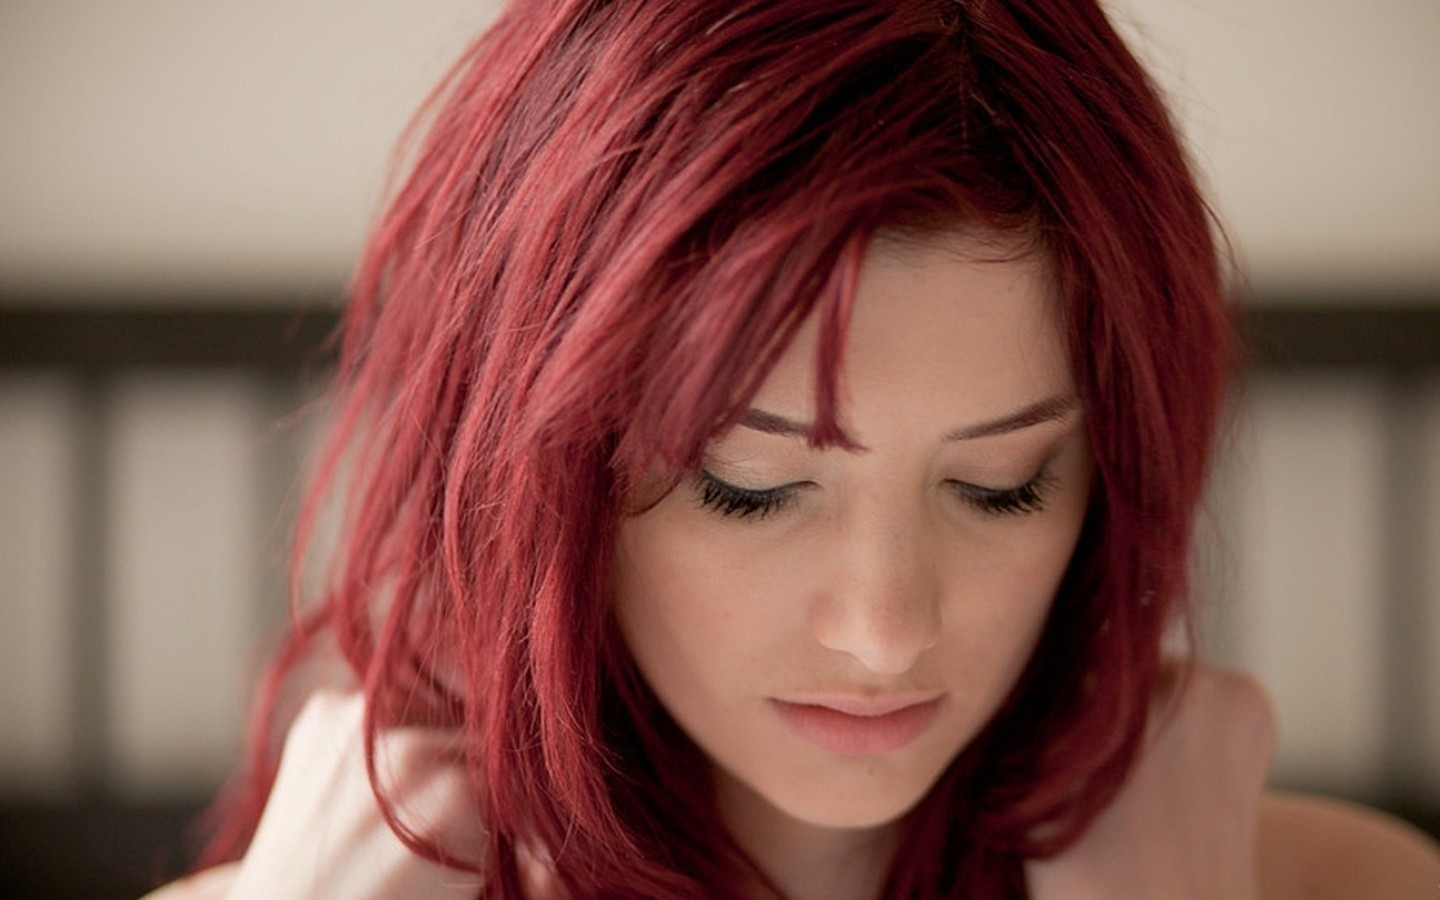face_no_mask: (405, 0, 1237, 859)
